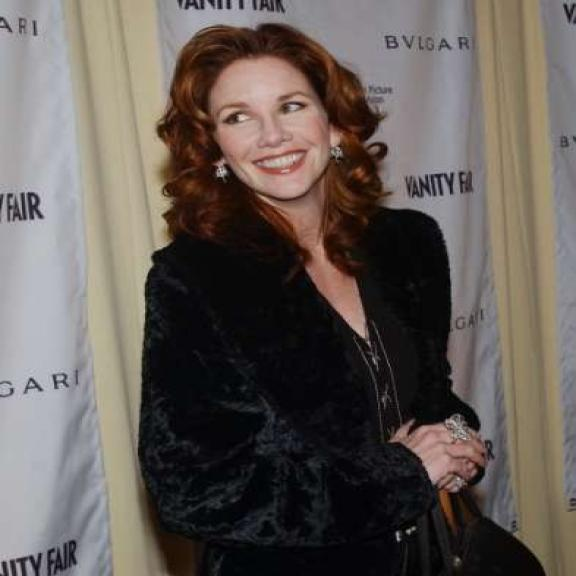face: (181, 42, 349, 202)
